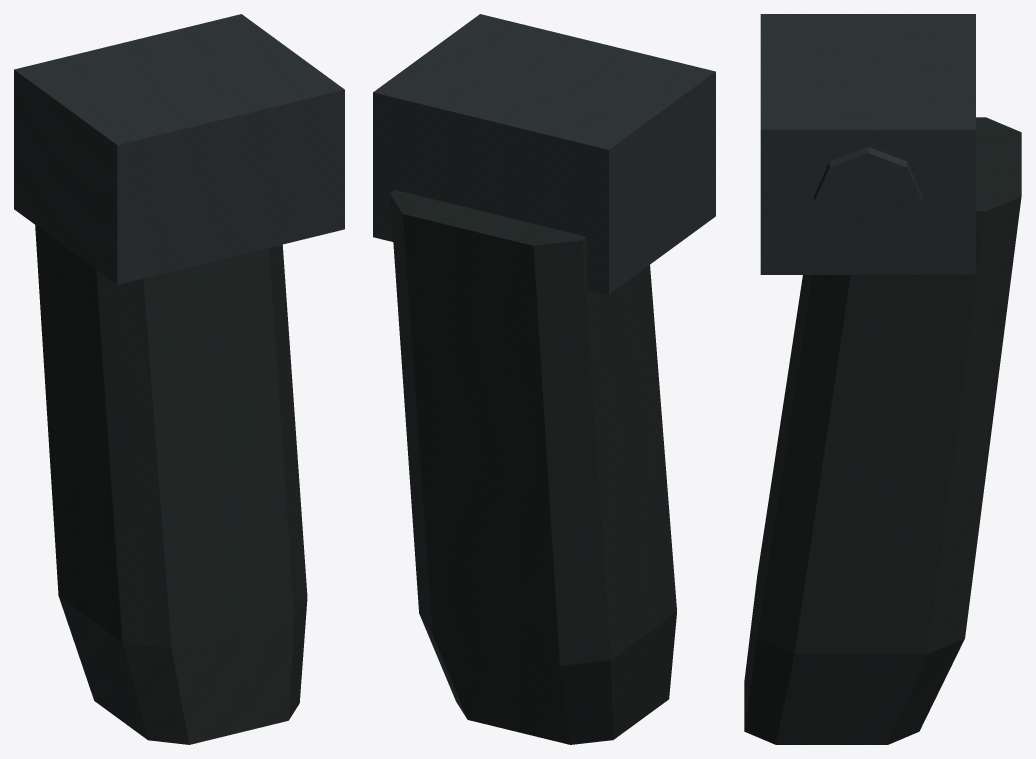
File: aug_guard.glb
The picture shows the model from 3 angles, left to right: view 1: azimuth 30°, elevation 25°; view 2: azimuth 150°, elevation 25°; view 3: azimuth 270°, elevation 25°; orthographic projection. The views are drawn at different scales.
Parts seen in each view (by area): view 1: handguard__aug_guard_LOD0_RAID_Secondary_Original_polymer, handguard__aug_guard_LOD0_RAID_Secondary_Original_steel, handguard__aug_guard_LOD1_RAID_Secondary_Original_steel; view 2: handguard__aug_guard_LOD0_RAID_Secondary_Original_polymer, handguard__aug_guard_LOD0_RAID_Secondary_Original_steel, handguard__aug_guard_LOD1_RAID_Secondary_Original_steel; view 3: handguard__aug_guard_LOD0_RAID_Secondary_Original_polymer, handguard__aug_guard_LOD1_RAID_Secondary_Original_steel, handguard__aug_guard_LOD0_RAID_Secondary_Original_steel.
Part boxes in pixels (bbox=[...]): handguard__aug_guard_LOD0_RAID_Secondary_Original_polymer: bbox=[35, 225, 307, 744]; handguard__aug_guard_LOD0_RAID_Secondary_Original_steel: bbox=[18, 19, 338, 275]; handguard__aug_guard_LOD1_RAID_Secondary_Original_steel: bbox=[14, 14, 344, 284]; handguard__aug_guard_LOD0_RAID_Secondary_Original_polymer: bbox=[390, 190, 676, 744]; handguard__aug_guard_LOD0_RAID_Secondary_Original_steel: bbox=[379, 20, 711, 286]; handguard__aug_guard_LOD1_RAID_Secondary_Original_steel: bbox=[373, 14, 715, 294]; handguard__aug_guard_LOD0_RAID_Secondary_Original_polymer: bbox=[744, 117, 1021, 744]; handguard__aug_guard_LOD1_RAID_Secondary_Original_steel: bbox=[760, 14, 975, 274]; handguard__aug_guard_LOD0_RAID_Secondary_Original_steel: bbox=[768, 17, 968, 269].
Size of the model in its own units: 0.0795 by 0.192 by 0.076.
Materials: 2 (2 with a texture image).
